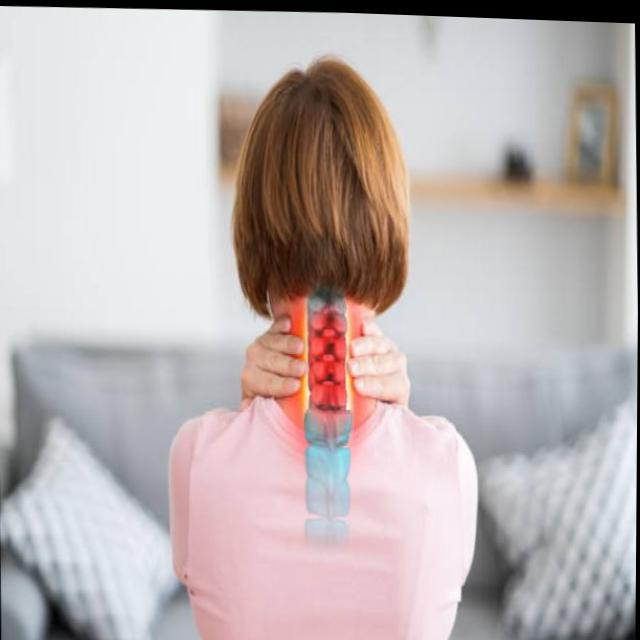no helmet: (203, 26, 438, 450)
